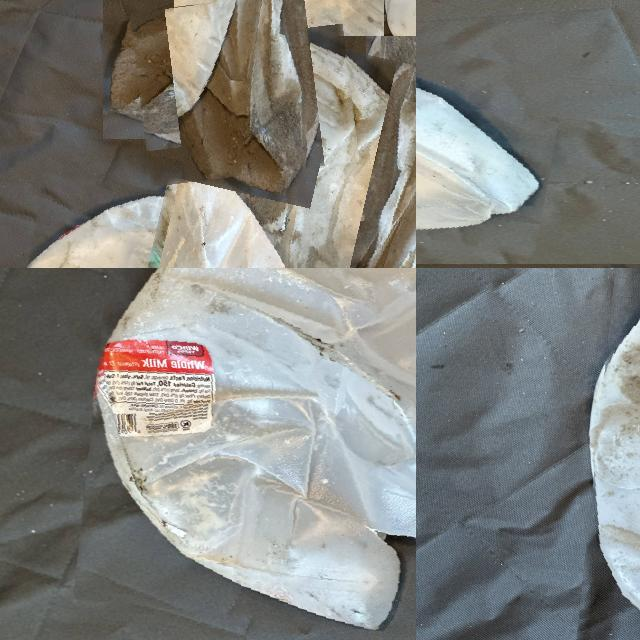milk-jug: (82, 268, 416, 635), (153, 32, 416, 268), (134, 0, 353, 181), (416, 11, 559, 238), (9, 182, 319, 268), (583, 268, 640, 640)
